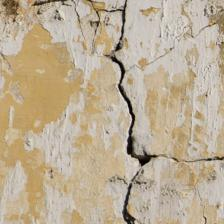Crack: (22, 19, 135, 129), (3, 53, 163, 75), (64, 62, 98, 108)
